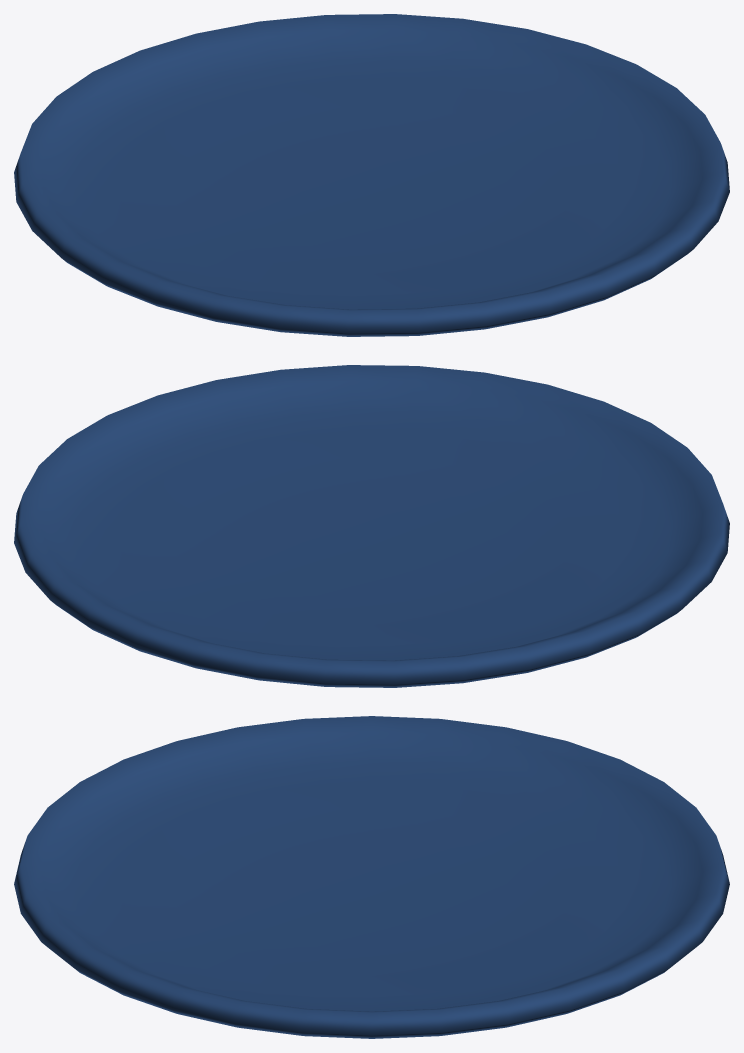
The model's file is plate1.fbx.
3 renders of one model, top to bottom at view 1: azimuth 30°, elevation 25°; view 2: azimuth 150°, elevation 25°; view 3: azimuth 270°, elevation 25°, orthographic.
Parts seen in each view (by area): view 1: Sphere; view 2: Sphere; view 3: Sphere.
Part boxes in pixels (x1,y1,x2,y2): Sphere: [14, 14, 729, 336]; Sphere: [14, 365, 729, 687]; Sphere: [14, 716, 729, 1038].
Bounding box in the file's own units: 100 × 7.72 × 100.
